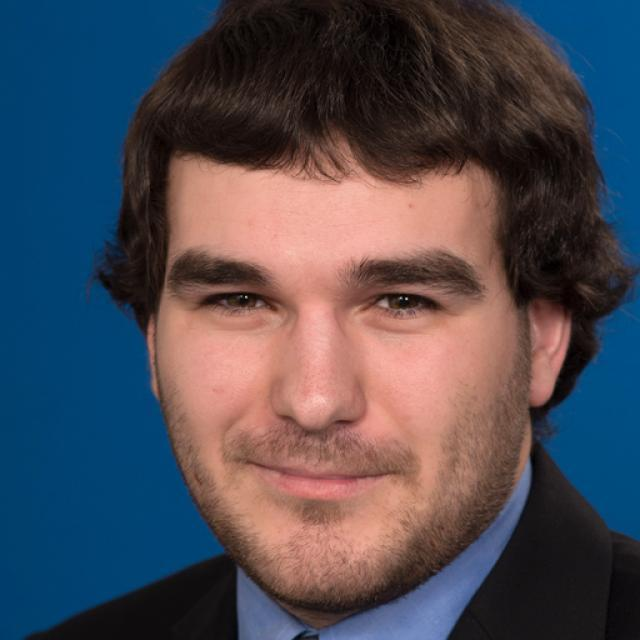0_rostro_limpio: (148, 0, 571, 607)
